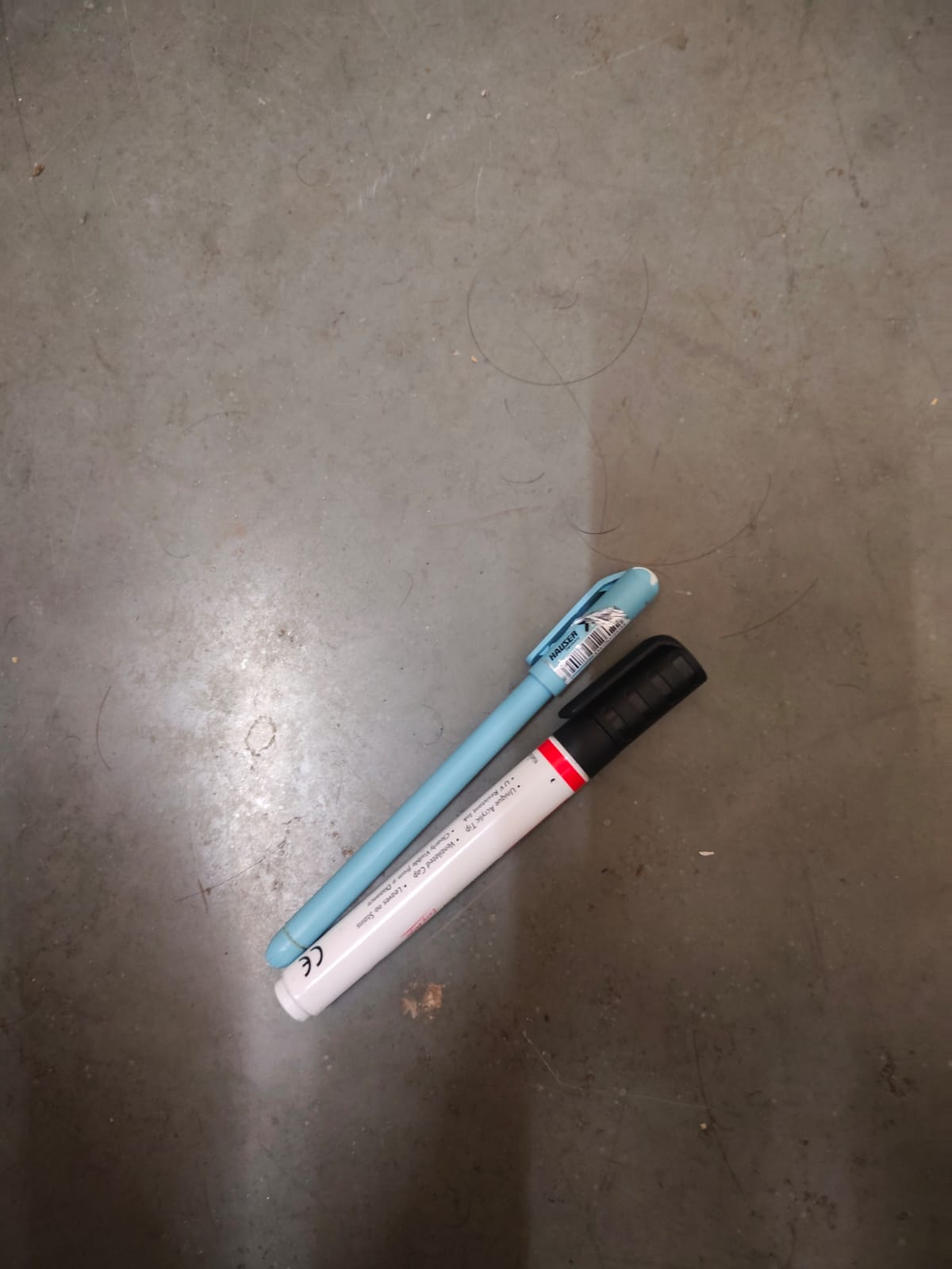case: (264, 635, 737, 1042)
pen: (255, 577, 671, 979)
